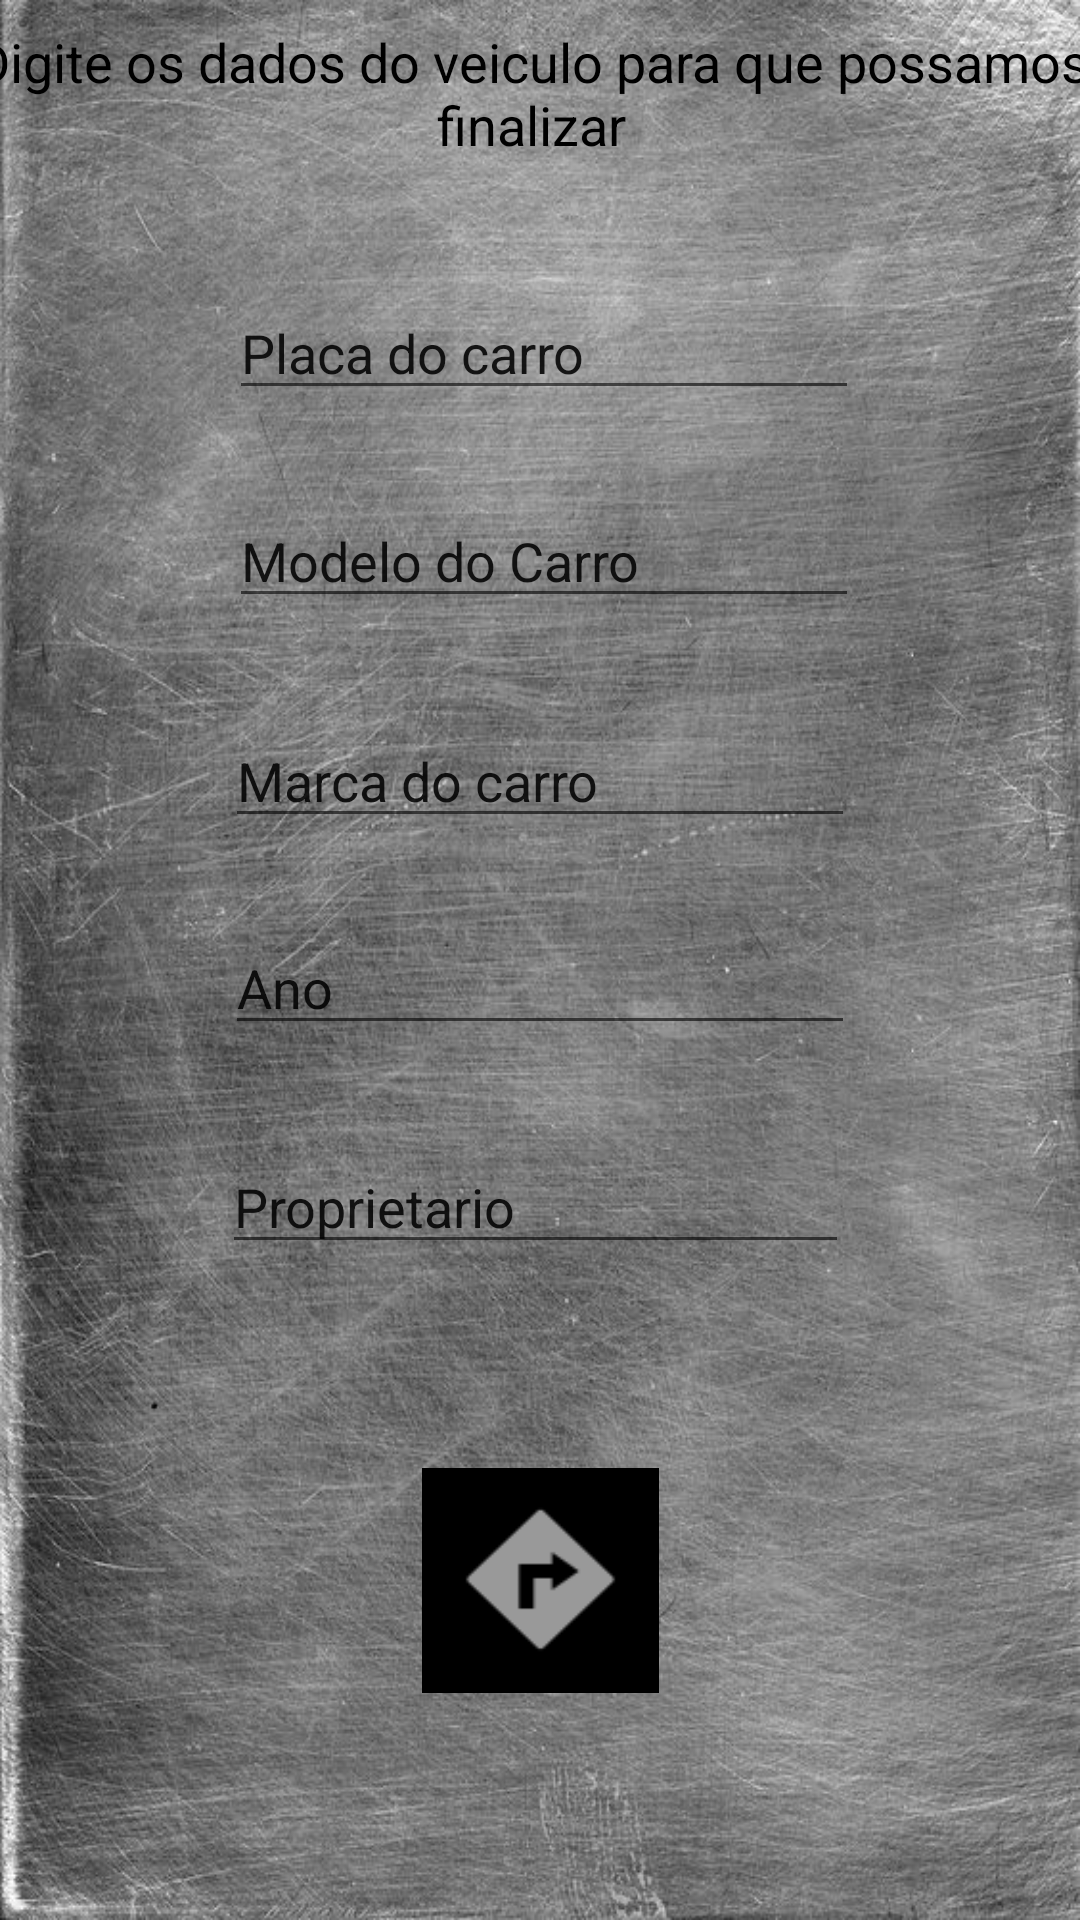

Screen size 1080×1920. Icon name, then its center in pixels as (x=x, y=y):
directions: (x=540, y=1580)
